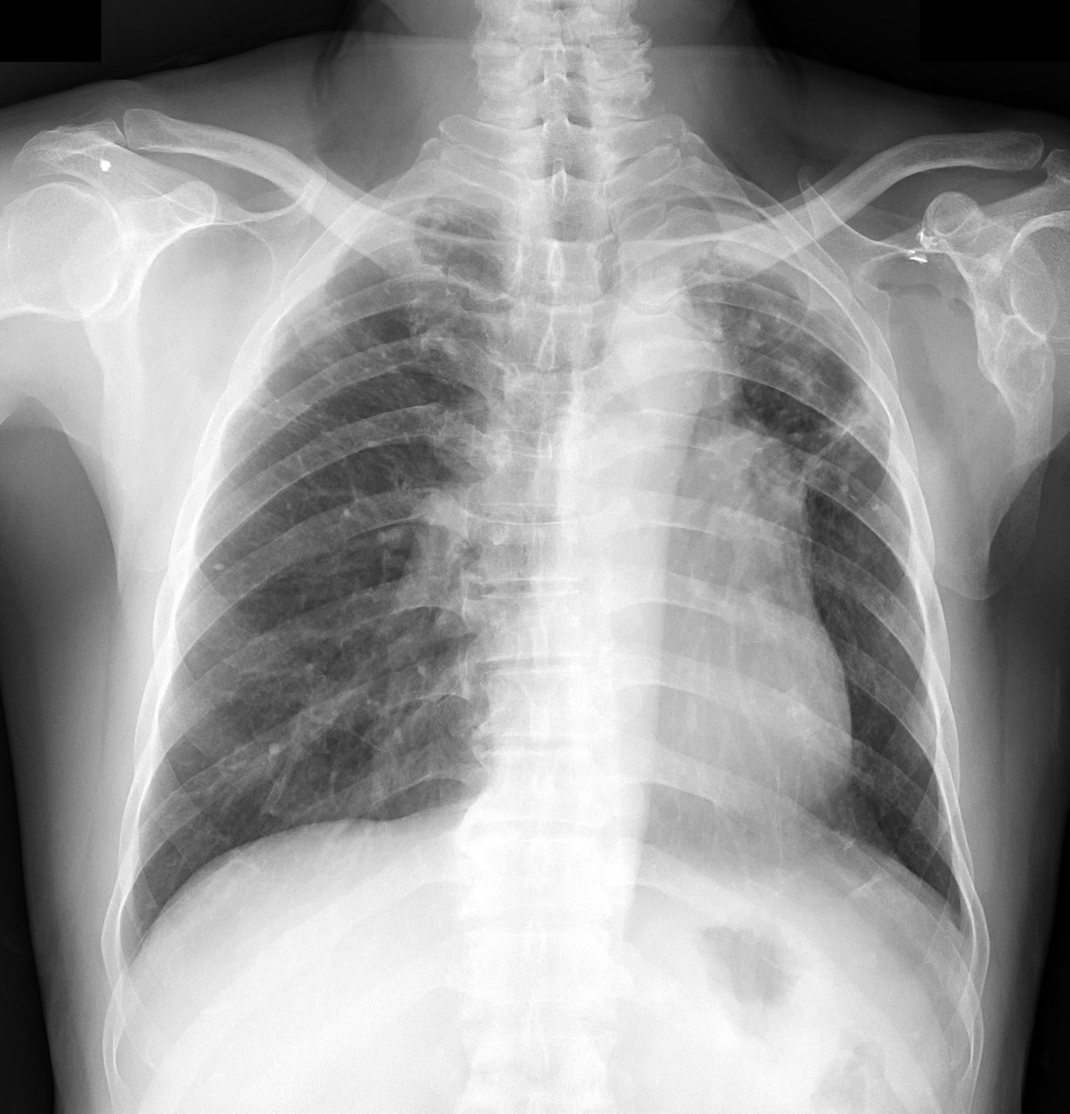Pleural thickening: (209, 189, 461, 410), (640, 188, 827, 305), (924, 874, 978, 1025)
Pulmonary fibrosis: (674, 247, 893, 543), (263, 292, 417, 416)
